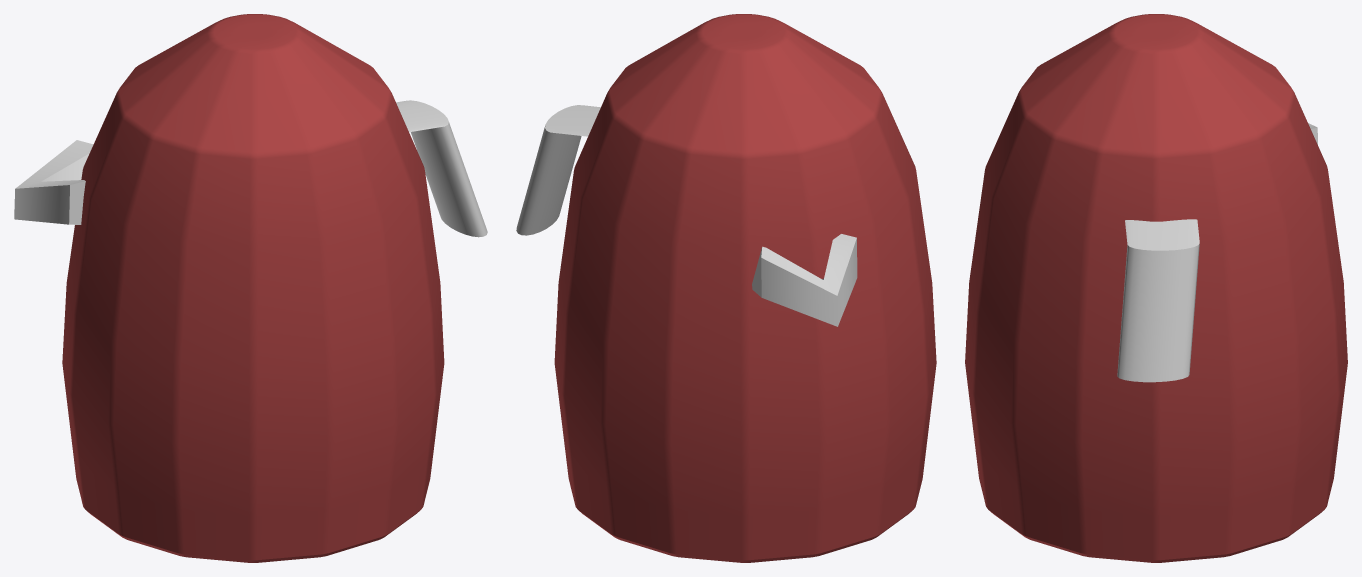
Rendered from notsmeg_vattenkanna_withcolour.fbx.
3 renders of one model, left to right at view 1: azimuth 30°, elevation 25°; view 2: azimuth 150°, elevation 25°; view 3: azimuth 270°, elevation 25°, orthographic.
Parts seen in each view (by area): view 1: pCylinder1, pCylinder2, pCube1; view 2: pCylinder1, pCube1, pCylinder2; view 3: pCylinder1, pCylinder2.
Boxes of the visible parts, x1=… form: pCylinder1: x1=62, y1=14, x2=444, y2=562; pCylinder2: x1=396, y1=100, x2=487, y2=237; pCube1: x1=14, y1=140, x2=93, y2=224; pCylinder1: x1=554, y1=14, x2=936, y2=562; pCube1: x1=752, y1=234, x2=857, y2=326; pCylinder2: x1=516, y1=105, x2=600, y2=235; pCylinder1: x1=965, y1=14, x2=1347, y2=562; pCylinder2: x1=1117, y1=219, x2=1199, y2=382.
Size of the model in its own units: 33.42 by 37.6 by 28.45.
